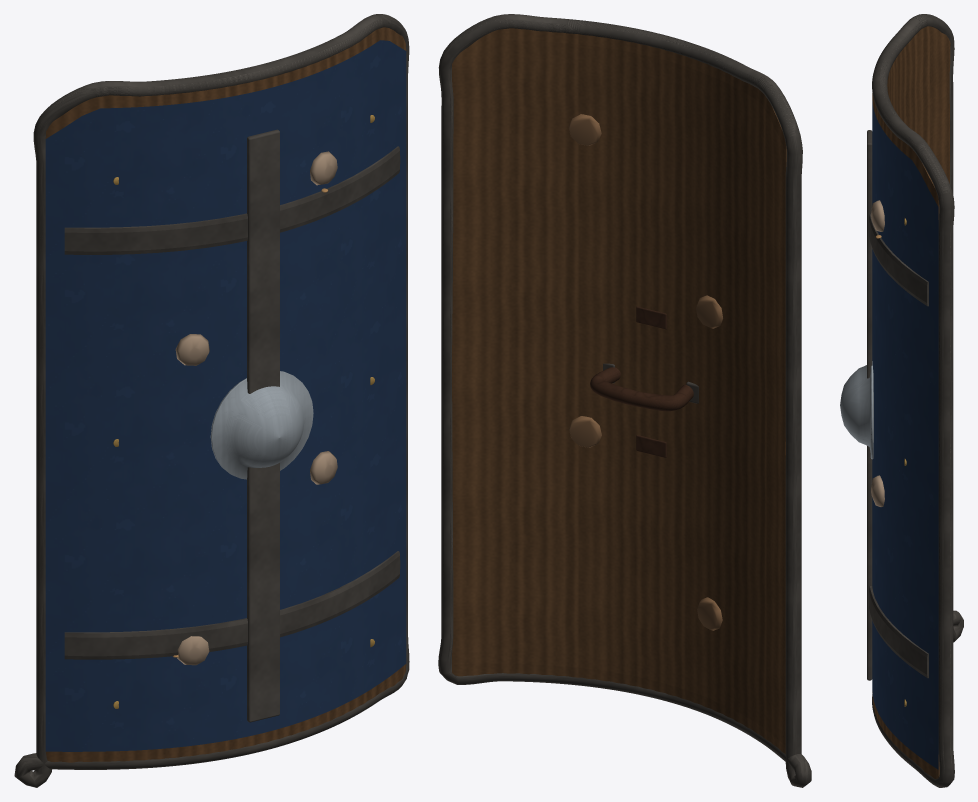
Rendered from tower-shield.glb.
3 views of the same model, side by side, from view 1: azimuth 30°, elevation 25°; view 2: azimuth 150°, elevation 25°; view 3: azimuth 270°, elevation 25° (orthographic). The views are drawn at different scales.
Visible parts, largest first — view 1: ceramic / ceramic composite panel, iron / hammer-scaled wrought iron, wood / oiled hardwood, steel / forged blade steel, glaze bead; view 2: wood / oiled hardwood, iron / hammer-scaled wrought iron, leather / oiled leather wrap, drawbore peg; view 3: ceramic / ceramic composite panel, iron / hammer-scaled wrought iron, wood / oiled hardwood, steel / forged blade steel, glaze bead.
Part boxes in pixels (box(x1,y1,x2,y2)): ceramic / ceramic composite panel: box(45, 40, 406, 751); iron / hammer-scaled wrought iron: box(14, 14, 409, 787); wood / oiled hardwood: box(45, 27, 406, 762); steel / forged blade steel: box(210, 371, 313, 479); glaze bead: box(175, 151, 337, 665); wood / oiled hardwood: box(452, 28, 786, 753); iron / hammer-scaled wrought iron: box(438, 14, 811, 787); leather / oiled leather wrap: box(590, 306, 693, 457); drawbore peg: box(568, 114, 722, 630); ceramic / ceramic composite panel: box(872, 101, 938, 769); iron / hammer-scaled wrought iron: box(867, 14, 963, 787); wood / oiled hardwood: box(872, 26, 950, 778); steel / forged blade steel: box(840, 361, 873, 459); glaze bead: box(871, 200, 884, 506).
Size of the model in its own units: 0.6118 by 1.06 by 0.1843.
9 materials, 6 textured.
